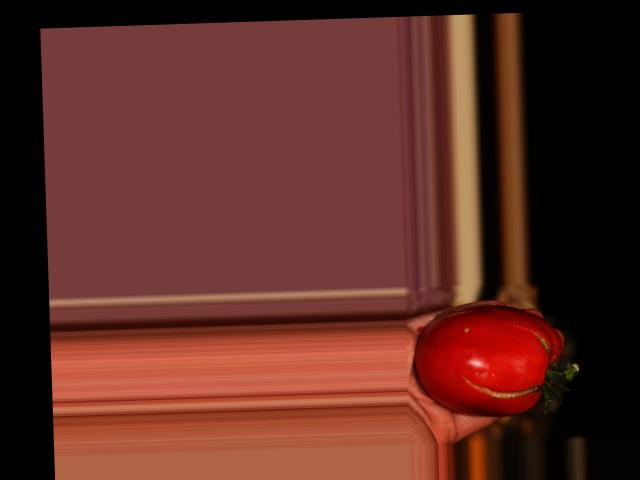tomato: (412, 302, 565, 417)
